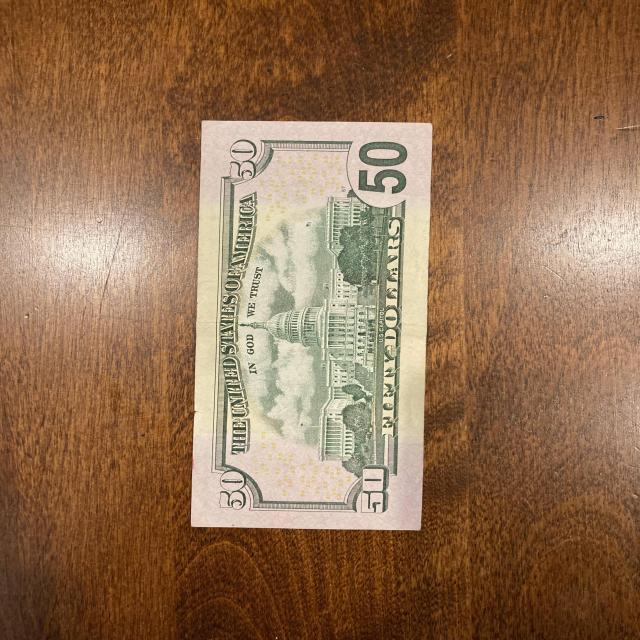fifty: (189, 120, 436, 532)
